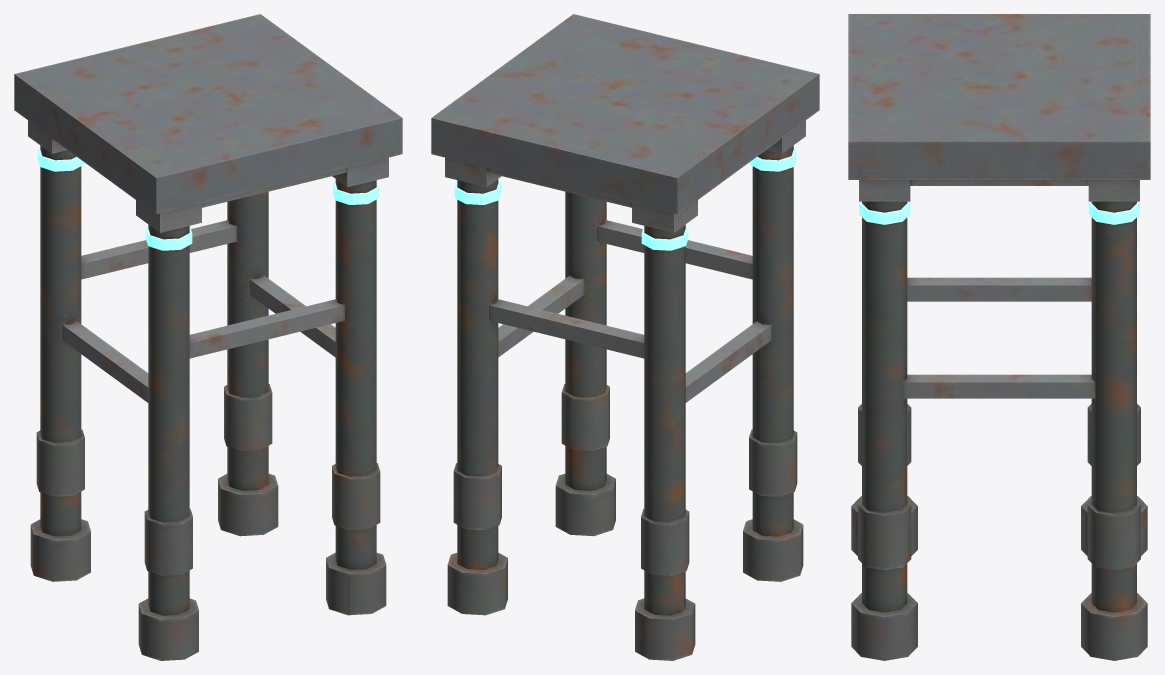
Rendered from plataforma_agua.glb.
3 views of the same model, side by side, from view 1: azimuth 30°, elevation 25°; view 2: azimuth 150°, elevation 25°; view 3: azimuth 270°, elevation 25° (orthographic). The views are drawn at different scales.
Visible parts, largest first — view 1: plataforma_agua_corpo; view 2: plataforma_agua_corpo; view 3: plataforma_agua_corpo.
Part boxes in pixels (left/top/right/bottom): plataforma_agua_corpo: left=14, top=14, right=402, bottom=660; plataforma_agua_corpo: left=431, top=14, right=819, bottom=660; plataforma_agua_corpo: left=848, top=14, right=1150, bottom=660.
Bounding box in the file's own units: 1 × 1.9 × 1.
2 materials, 1 textured.
